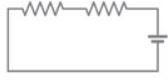resistor: (17, 0, 69, 18), (79, 0, 131, 16)
